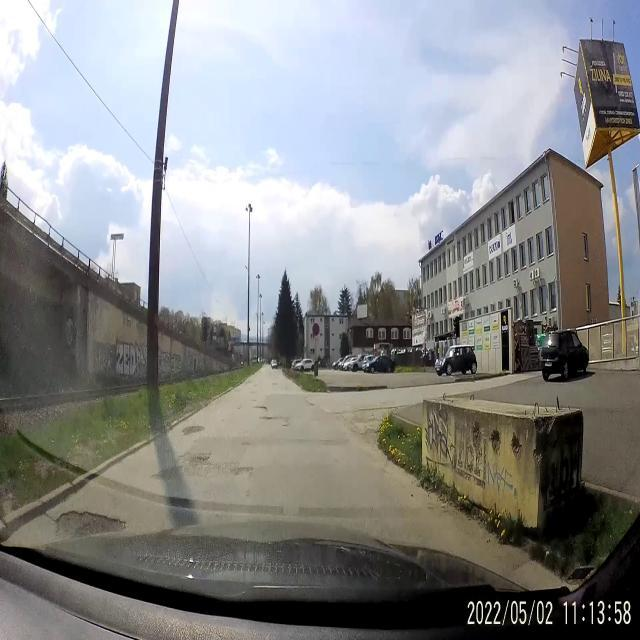Pothole: (54, 499, 128, 538), (182, 420, 206, 440), (260, 415, 286, 427), (193, 449, 209, 467), (254, 402, 268, 412)
